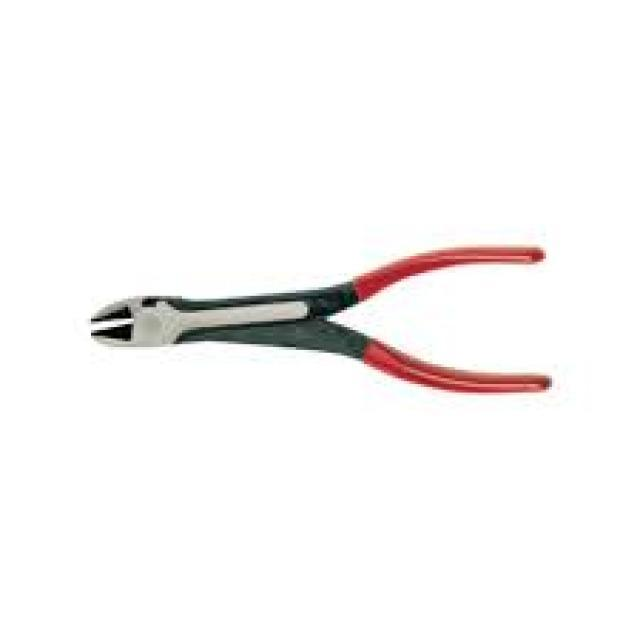pliers: (82, 236, 561, 384)
